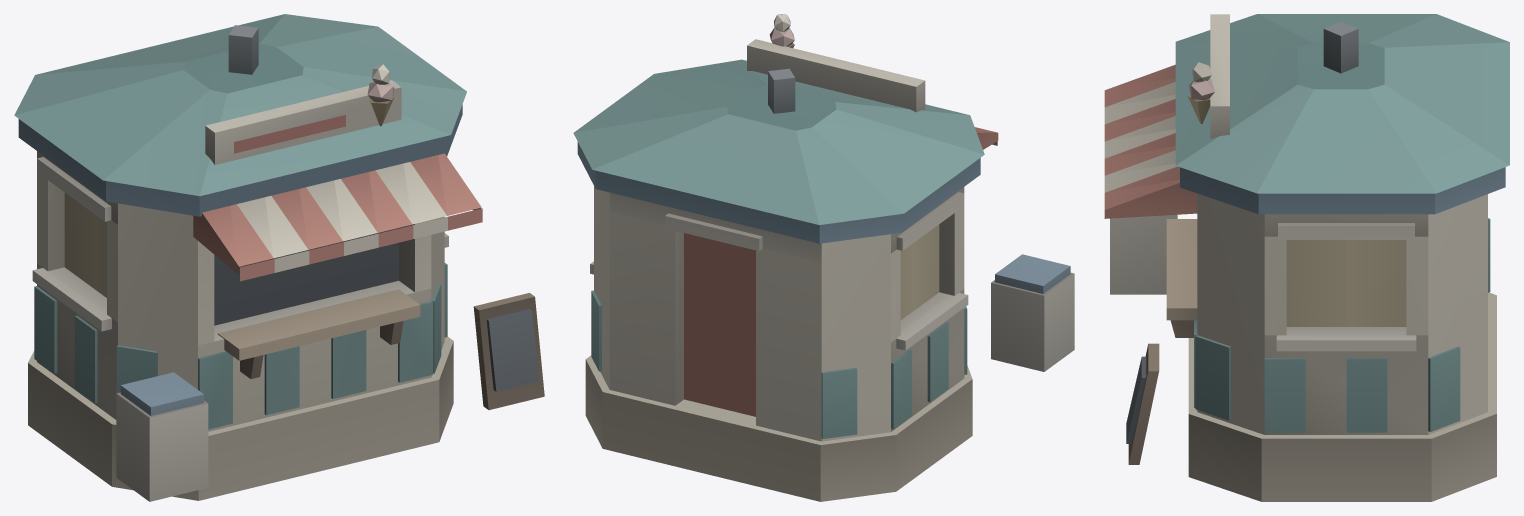
File: kiosk.lod1.glb
The picture shows the model from 3 angles, left to right: view 1: azimuth 30°, elevation 25°; view 2: azimuth 150°, elevation 25°; view 3: azimuth 270°, elevation 25°; orthographic projection. The views are drawn at different scales.
Size of the model in its own units: 4.33 by 3.94 by 3.74.
